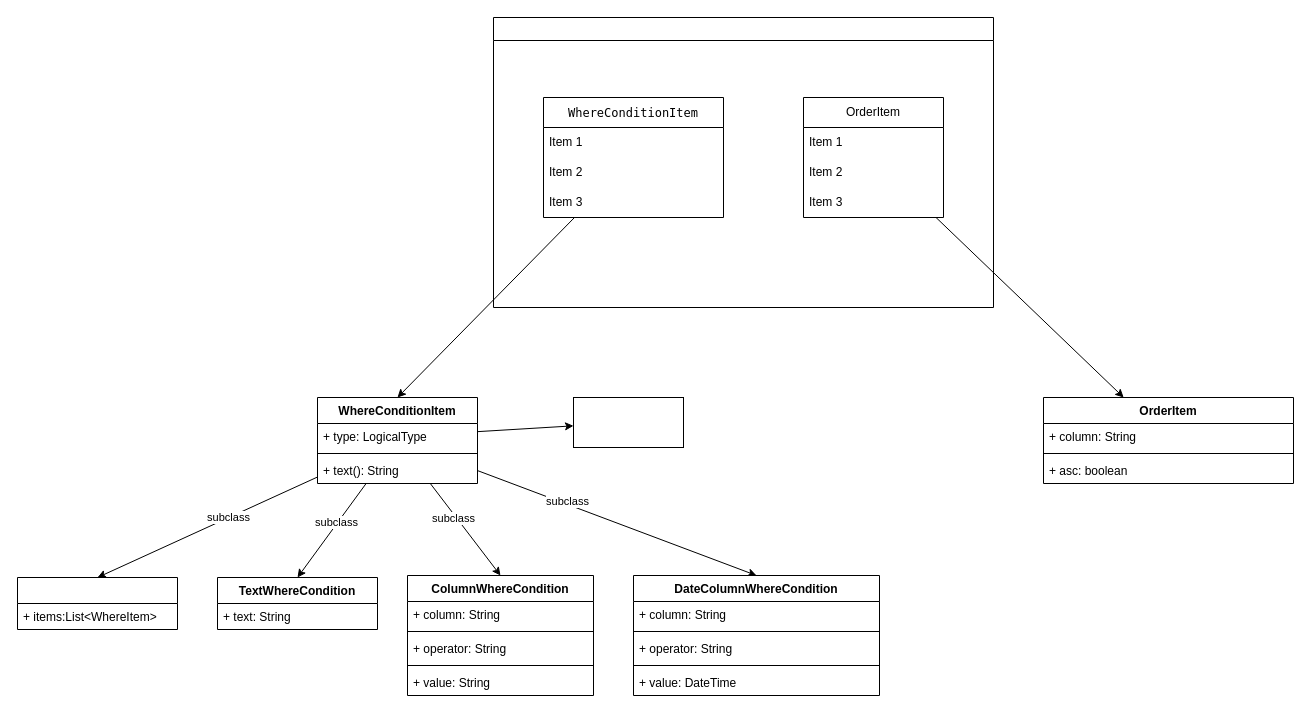
This 1311x716 diagram has some shape labels left out. Here are the shapes that lost their labels. From the top down, the box of each, then its label:
(492, 16, 994, 308): AdvanceCustomFilter
(572, 396, 684, 448): LogicalType and/or
(16, 576, 178, 630): WhereConditionGroup
